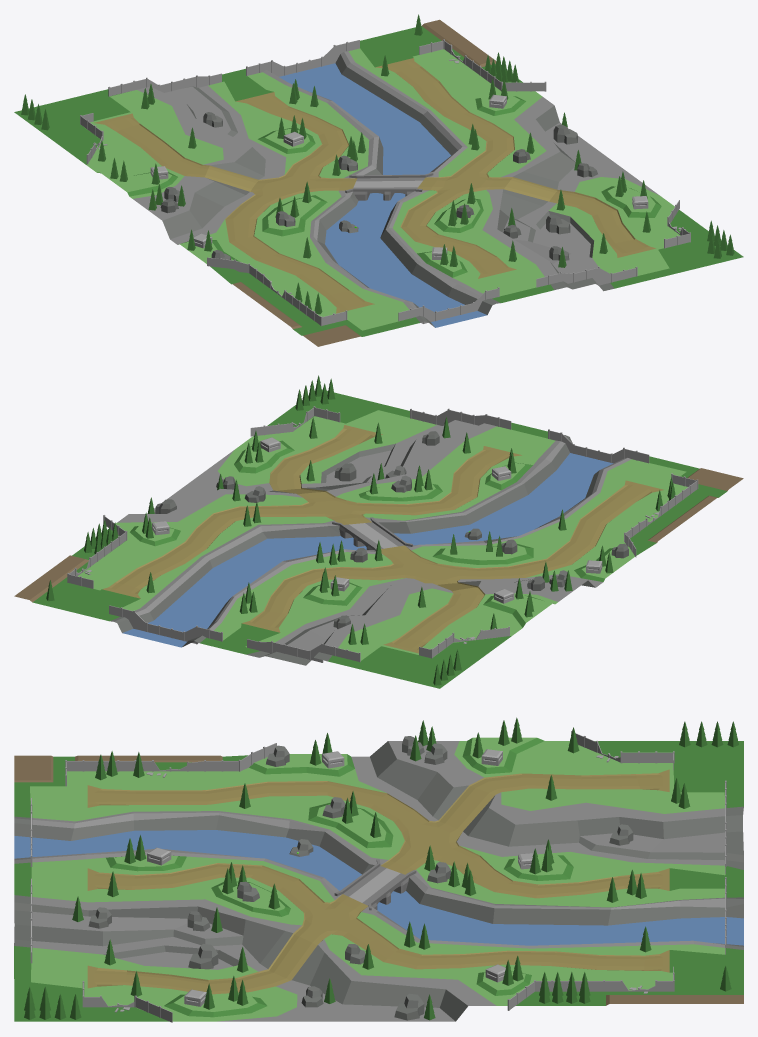
File: env_revolution.fbx
3 views of the same model, one above another, from view 1: azimuth 30°, elevation 25°; view 2: azimuth 150°, elevation 25°; view 3: azimuth 270°, elevation 25° (orthographic). The views are drawn at different scales.
Visible parts, largest first — view 1: polySurface2, pCube27; view 2: polySurface2, pCube27; view 3: polySurface2, pCube27, pCube48, pCube99.
Boxes of the visible parts, x1,y1,x2,y2 form: polySurface2: [14, 19, 743, 346]; pCube27: [345, 172, 433, 200]; polySurface2: [14, 389, 743, 688]; pCube27: [332, 517, 412, 551]; polySurface2: [14, 737, 743, 1021]; pCube27: [334, 859, 416, 910]; pCube48: [394, 993, 424, 1020]; pCube99: [188, 944, 218, 969].
Size of the model in its own units: 34.82 by 4.04 by 42.06.
